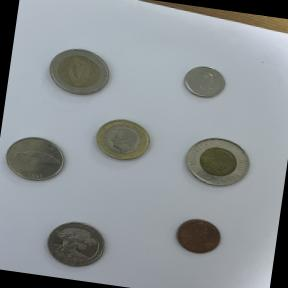coin: (170, 125, 260, 198), (36, 38, 120, 106), (36, 214, 113, 274), (84, 108, 158, 169), (0, 128, 73, 189), (167, 210, 229, 260), (174, 57, 234, 106)
